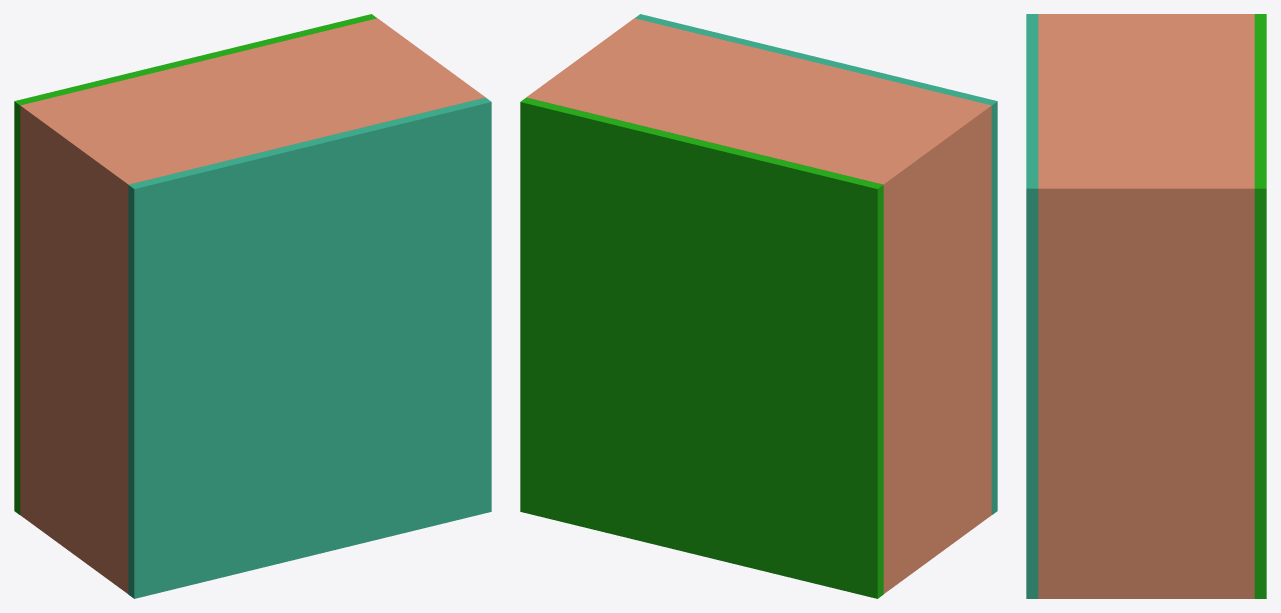
Rendered from treated_room_with_speaker_and_mic.glb.
The picture shows the model from 3 angles, left to right: view 1: azimuth 30°, elevation 25°; view 2: azimuth 150°, elevation 25°; view 3: azimuth 270°, elevation 25°; orthographic projection.
Parts seen in each view (by area): view 1: ceiling, wall, floor; view 2: floor, wall, ceiling; view 3: wall, ceiling, floor.
Part boxes in pixels (x1,y1,x2,y2): ceiling: (128, 97, 491, 598); wall: (20, 18, 485, 593); floor: (14, 14, 376, 514); floor: (520, 97, 883, 598); wall: (526, 18, 991, 593); ceiling: (635, 14, 997, 514); wall: (1038, 14, 1254, 598); ceiling: (1026, 14, 1038, 598); floor: (1254, 14, 1266, 598).
Bounding box in the file's own units: 5.15 × 5.65 × 3.
